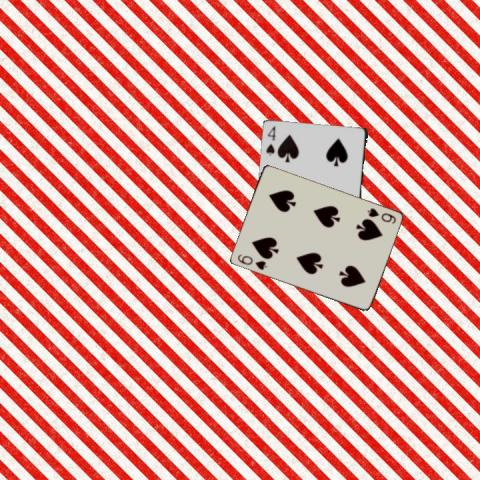4s: (263, 124, 277, 158)
6s: (234, 252, 268, 272), (364, 206, 397, 226)
